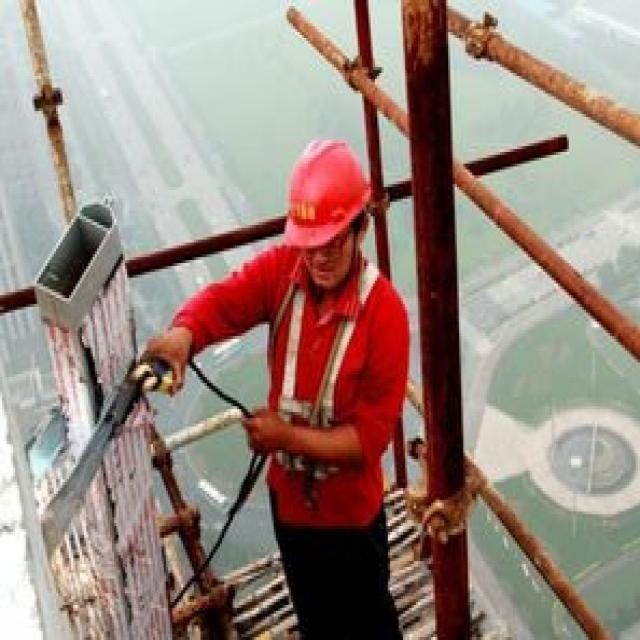Arnes_seguridad: (272, 246, 386, 480)
